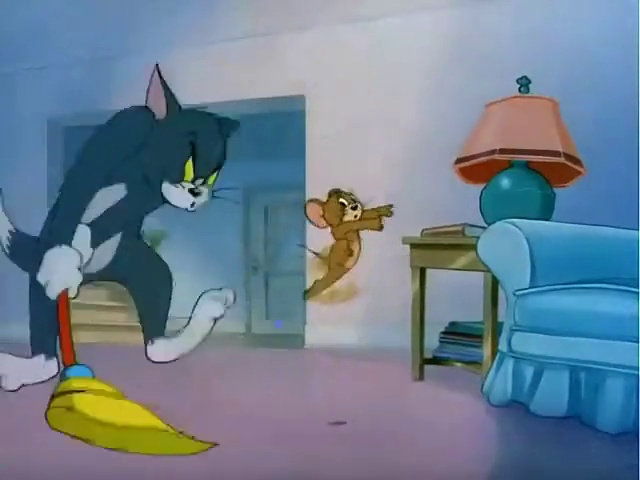jerry: (298, 171, 403, 309)
tom: (4, 50, 272, 439)
